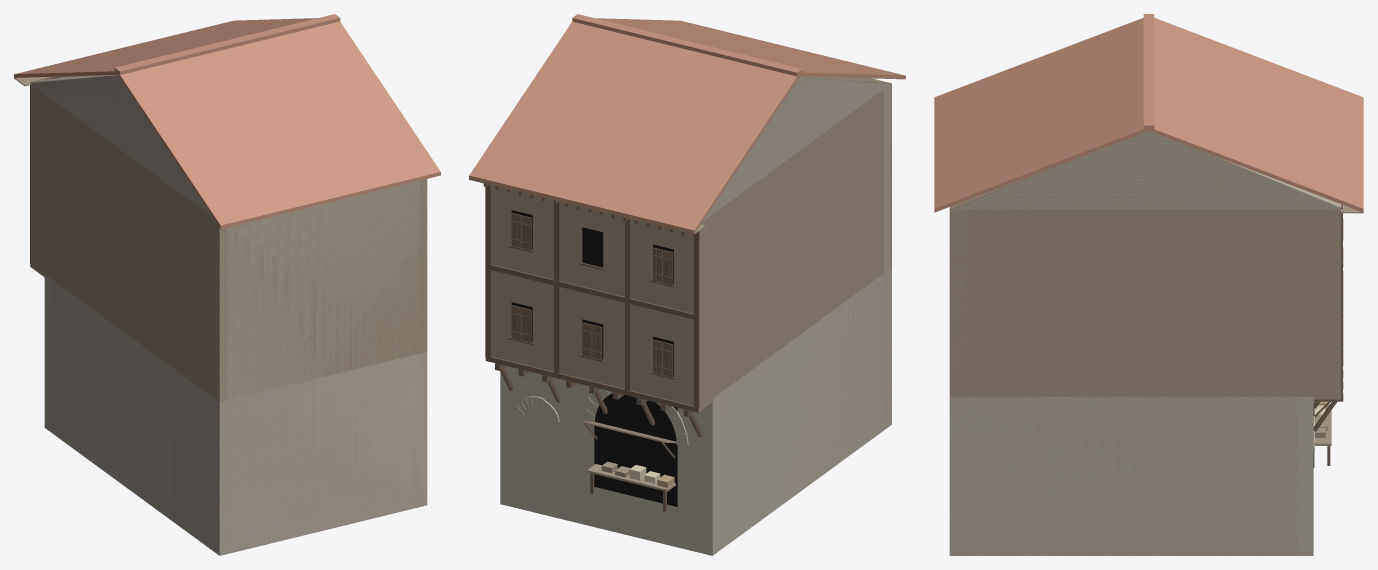
File: casa-82-2-legno.glb
3 renders of one model, left to right at view 1: azimuth 30°, elevation 25°; view 2: azimuth 150°, elevation 25°; view 3: azimuth 270°, elevation 25°, orthographic. The views are drawn at different scales.
Parts seen in each view (by area): view 1: vicino, lontano; view 2: vicino, lontano, aperta; view 3: vicino, lontano, aperta.
Part boxes in pixels (x1=…): vicino: x1=14, y1=14, x2=440, y2=555; lontano: x1=14, y1=72, x2=440, y2=554; vicino: x1=469, y1=14, x2=905, y2=555; lontano: x1=474, y1=74, x2=905, y2=555; aperta: x1=580, y1=421, x2=676, y2=511; vicino: x1=934, y1=14, x2=1363, y2=555; lontano: x1=934, y1=129, x2=1363, y2=555; aperta: x1=1314, y1=401, x2=1331, y2=465.
Bounding box in the file's own units: 8.7 × 15.77 × 14.15.
